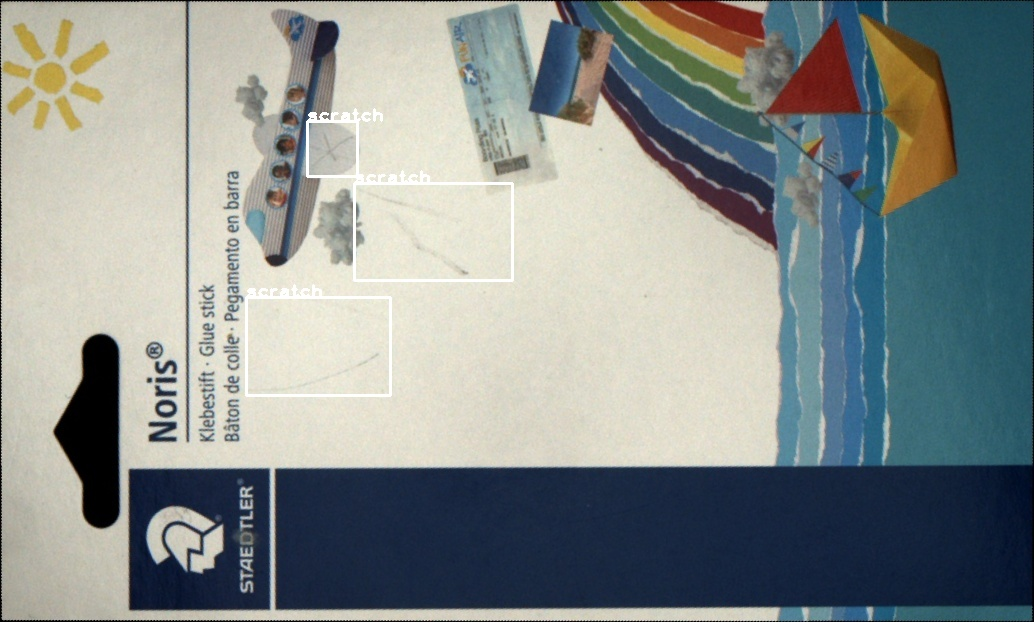scratch: (354, 183, 512, 280), (246, 297, 390, 395), (307, 121, 357, 176)
